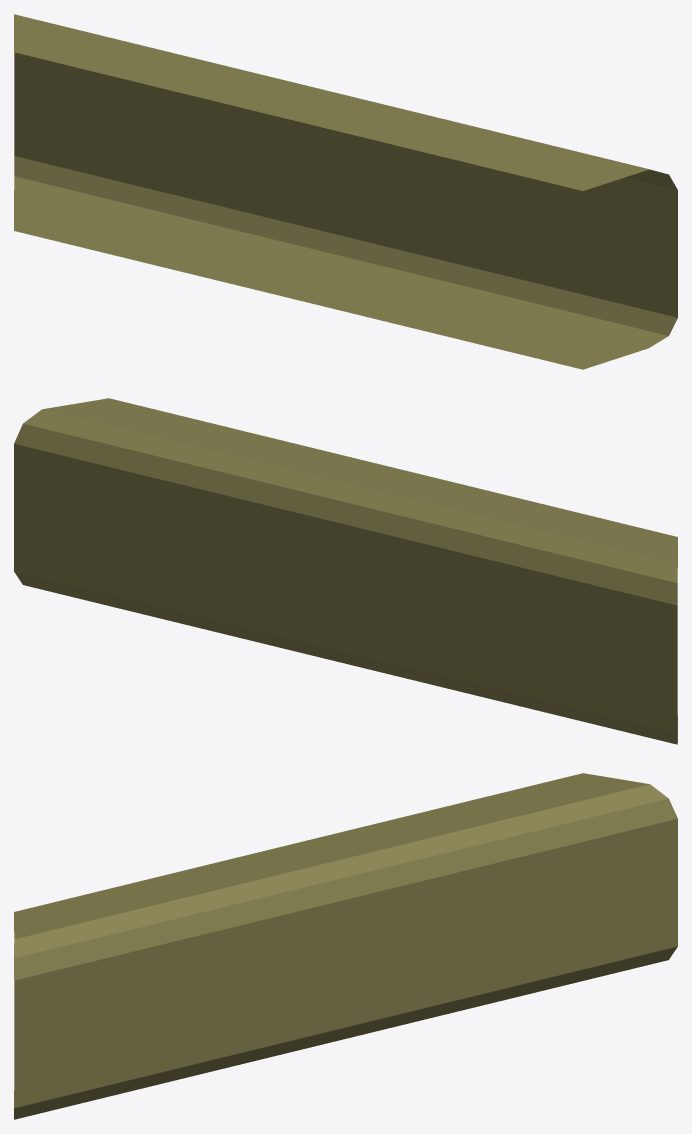
Rendered from sand_overhang.glb.
3 renders of one model, top to bottom at view 1: azimuth 30°, elevation 25°; view 2: azimuth 210°, elevation 25°; view 3: azimuth 270°, elevation 25°, orthographic.
Visible parts, largest first — view 1: Cylinder.001; view 2: Cylinder.001; view 3: Cylinder.001.
Part boxes in pixels (x1=…): Cylinder.001: x1=14, y1=14, x2=677, y2=369; Cylinder.001: x1=14, y1=398, x2=677, y2=744; Cylinder.001: x1=14, y1=773, x2=677, y2=1119.
Bounding box in the file's own units: 0.667 × 0.3089 × 1.01.
